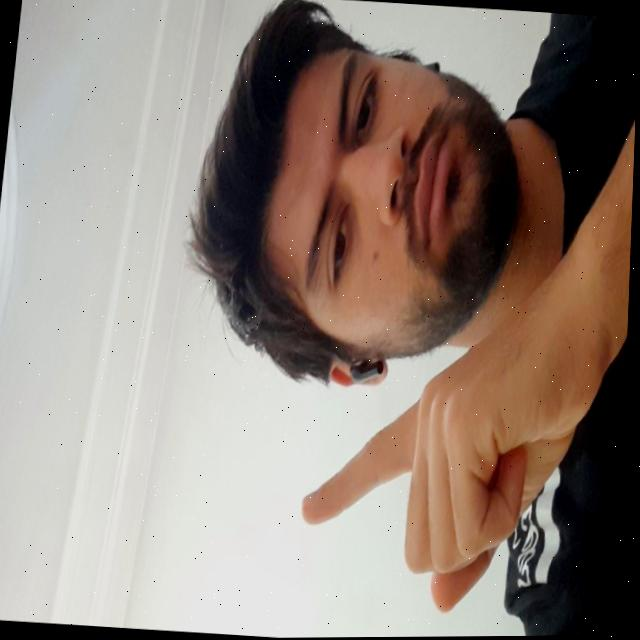Head: (172, 0, 548, 399)
One: (294, 286, 621, 624)
